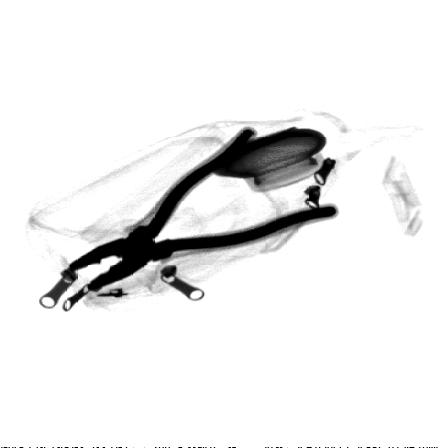Pliers: (66, 126, 341, 293)
